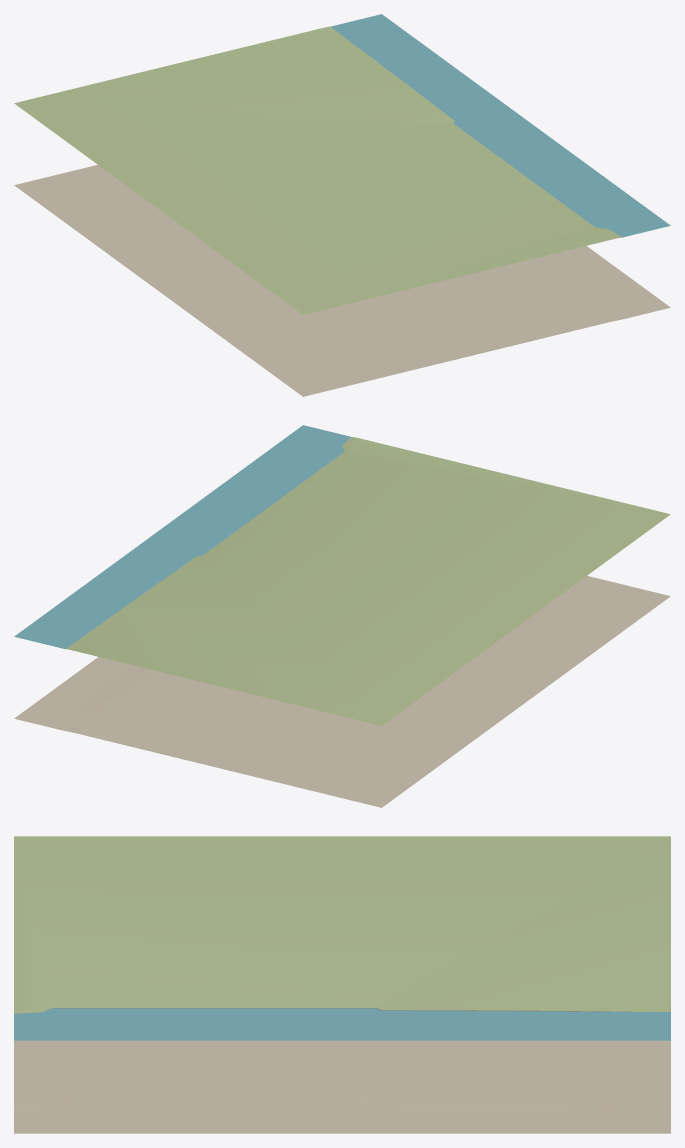
The picture shows the model from 3 angles, top to bottom: view 1: azimuth 30°, elevation 25°; view 2: azimuth 150°, elevation 25°; view 3: azimuth 270°, elevation 25°; orthographic projection. The views are drawn at different scales.
Visible parts, largest first — view 1: s_-13_-2__grass, s_-13_-2__soil, s_-13_-2__water; view 2: s_-13_-2__grass, s_-13_-2__soil, s_-13_-2__water; view 3: s_-13_-2__grass, s_-13_-2__soil, s_-13_-2__water.
Boxes of the visible parts, x1,y1,x2,y2 form: s_-13_-2__grass: (14, 26, 621, 314); s_-13_-2__soil: (14, 165, 670, 396); s_-13_-2__water: (331, 14, 670, 237); s_-13_-2__grass: (66, 437, 670, 725); s_-13_-2__soil: (14, 576, 670, 807); s_-13_-2__water: (14, 425, 350, 649); s_-13_-2__grass: (14, 836, 670, 1013); s_-13_-2__soil: (14, 1010, 670, 1133); s_-13_-2__water: (14, 1008, 670, 1040).
Size of the model in its own units: 94 by 20.14 by 128.
